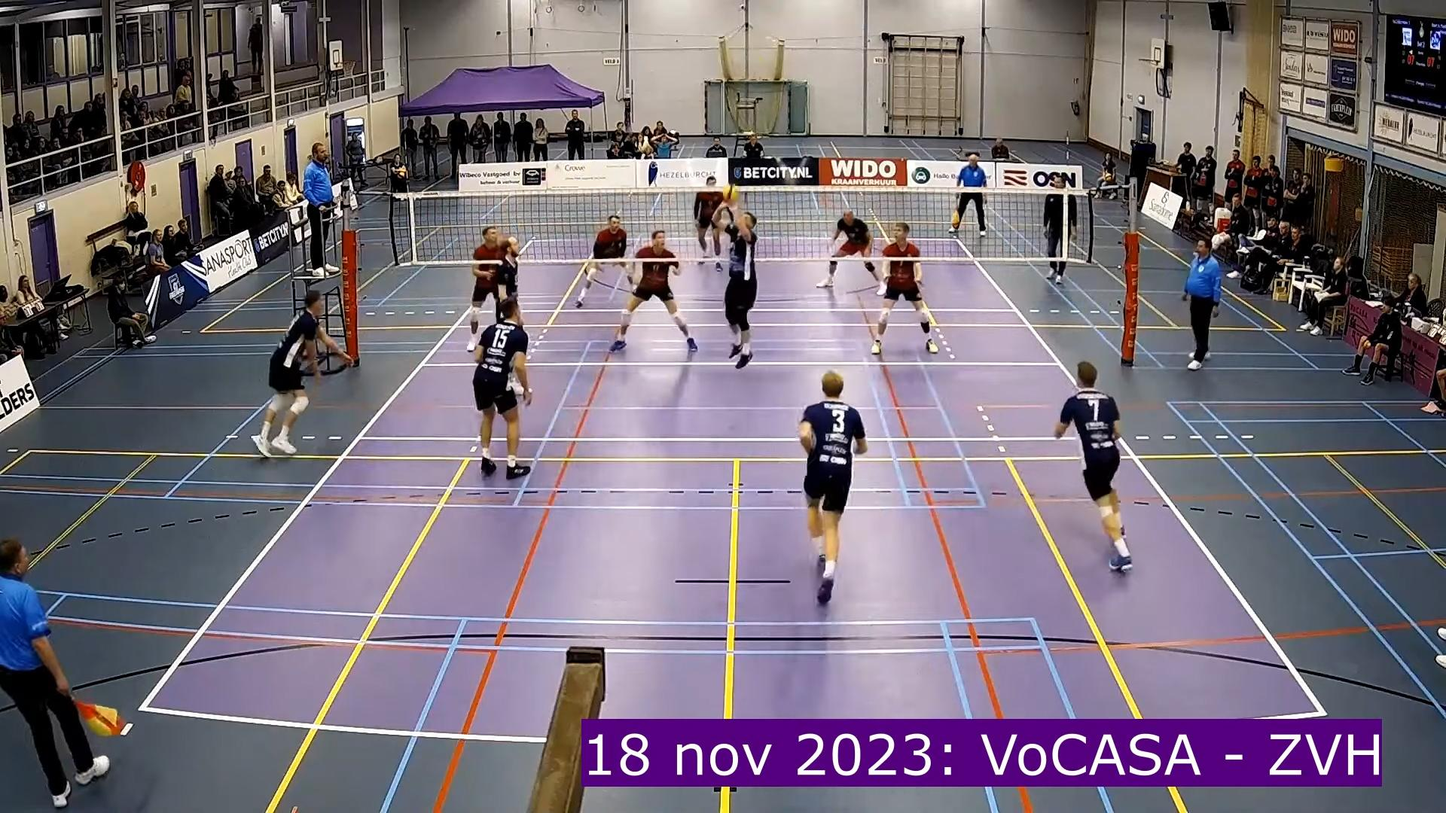alzata: (705, 202, 775, 373)
